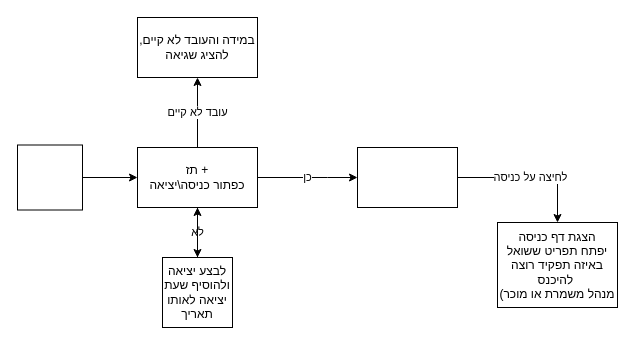
Image size: 635x345. Some labels were removed from this diagram. The centre of each missing label's shape, as x and y in pixels:
"להוסיף אותו למערך כניסה ולדווח שעת כניסה ויציאה" goes at (407,177).
"מסך המאפשר לעובד לבצע כניסה ויציאה" goes at (49,177).
